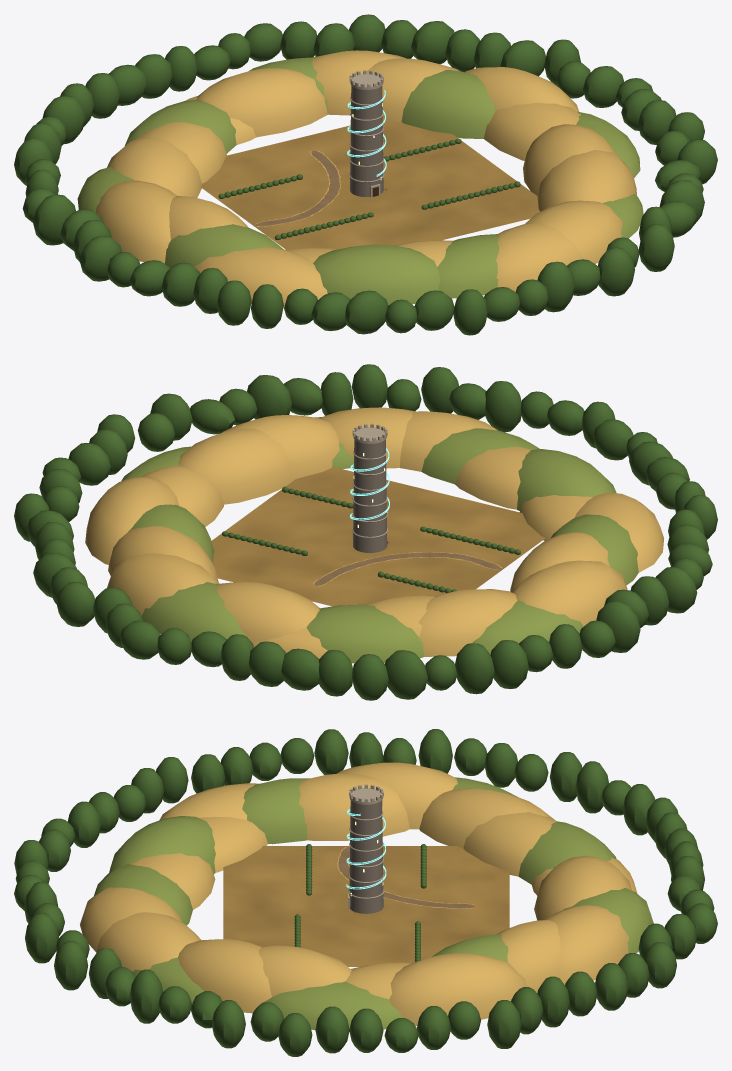
The model's file is tower.glb.
3 renders of one model, top to bottom at view 1: azimuth 30°, elevation 25°; view 2: azimuth 150°, elevation 25°; view 3: azimuth 270°, elevation 25°, orthographic.
Parts seen in each view (by area): view 1: pl_hills, pl_ground, pl_tower, pl_road; view 2: pl_hills, pl_ground, pl_tower, pl_road; view 3: pl_hills, pl_ground, pl_tower, pl_road.
Part boxes in pixels (left/top/right/bottom): pl_hills: left=14, top=14, right=717, bottom=335; pl_ground: left=201, top=120, right=540, bottom=249; pl_tower: left=347, top=70, right=386, bottom=197; pl_road: left=255, top=150, right=340, bottom=226; pl_hills: left=14, top=364, right=717, bottom=700; pl_ground: left=211, top=467, right=545, bottom=606; pl_tower: left=350, top=423, right=389, bottom=552; pl_road: left=313, top=552, right=501, bottom=586; pl_hills: left=14, top=729, right=717, bottom=1056; pl_ground: left=223, top=846, right=509, bottom=966; pl_tower: left=346, top=784, right=386, bottom=913; pl_road: left=337, top=847, right=475, bottom=908.
Size of the model in its own units: 248 by 49.05 by 246.
